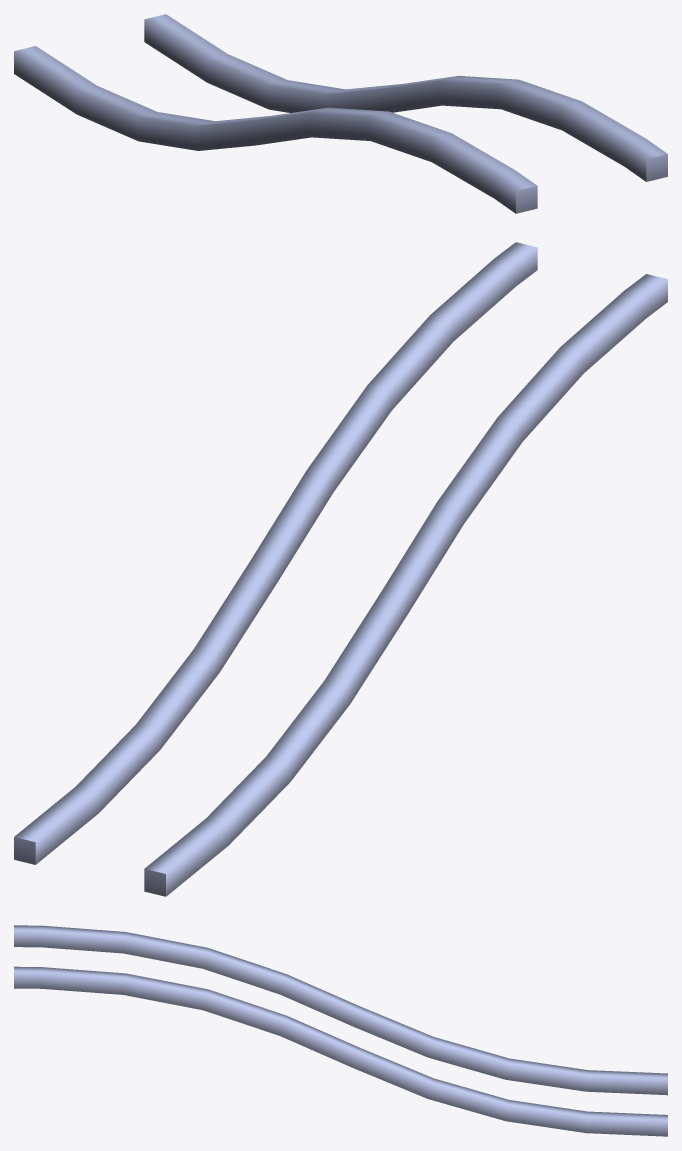
Rendered from kenney-train-railroad-rail-straight-hill-complete.glb.
3 views of the same model, one above another, from view 1: azimuth 30°, elevation 25°; view 2: azimuth 150°, elevation 25°; view 3: azimuth 270°, elevation 25° (orthographic). The views are drawn at different scales.
Parts seen in each view (by area): view 1: railroad-rail-straight-hill-complete; view 2: railroad-rail-straight-hill-complete; view 3: railroad-rail-straight-hill-complete.
Boxes of the visible parts, left/top/right/bottom form: railroad-rail-straight-hill-complete: left=14, top=14, right=667, bottom=213; railroad-rail-straight-hill-complete: left=14, top=242, right=667, bottom=896; railroad-rail-straight-hill-complete: left=14, top=925, right=667, bottom=1136.
Size of the model in its own units: 0.6997 by 1.1 by 4.
1 material, 1 textured.
